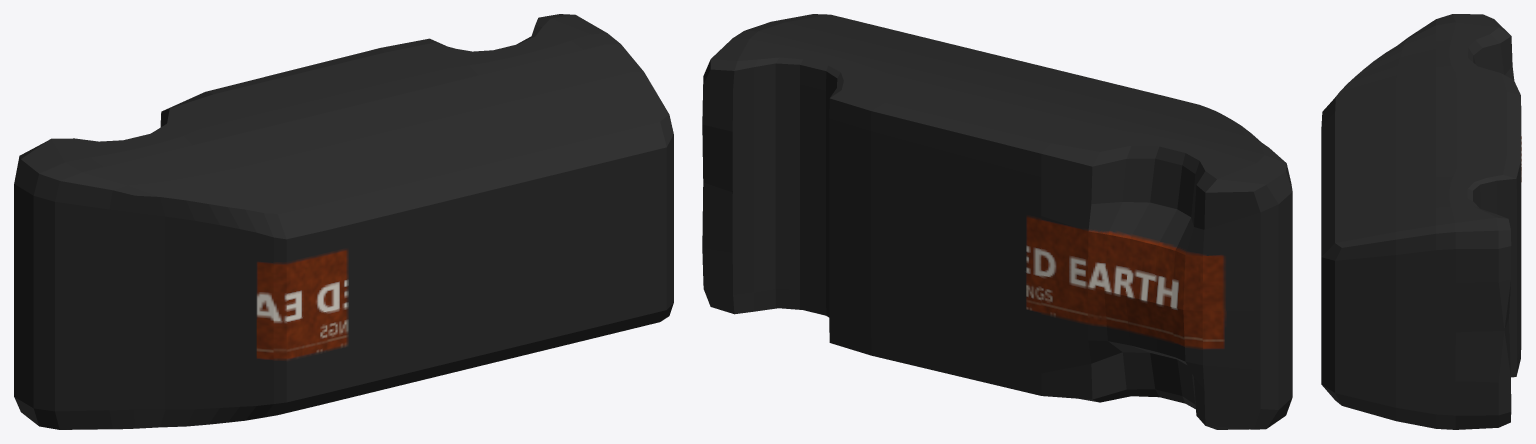
The model's file is tem_van.glb.
3 renders of one model, left to right at view 1: azimuth 30°, elevation 25°; view 2: azimuth 150°, elevation 25°; view 3: azimuth 270°, elevation 25°, orthographic. The views are drawn at different scales.
Visible parts, largest first — view 1: Object_14; view 2: Object_14; view 3: Object_14.
Boxes of the visible parts, x1,y1,x2,y2 form: Object_14: (14, 14, 673, 429); Object_14: (702, 14, 1292, 429); Object_14: (1321, 14, 1521, 429).
Bounding box in the file's own units: 5.9 × 2.51 × 2.24.
1 material, 1 textured.
